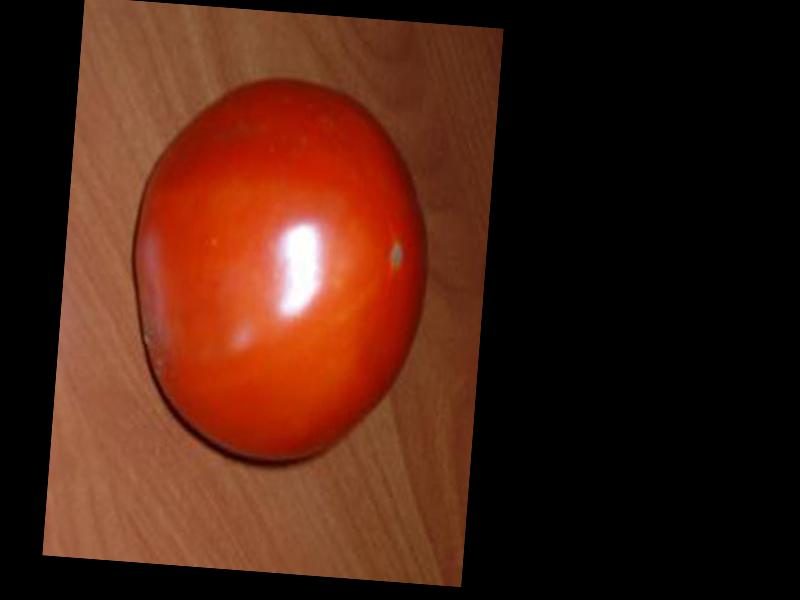Tomato: (120, 64, 442, 477)
